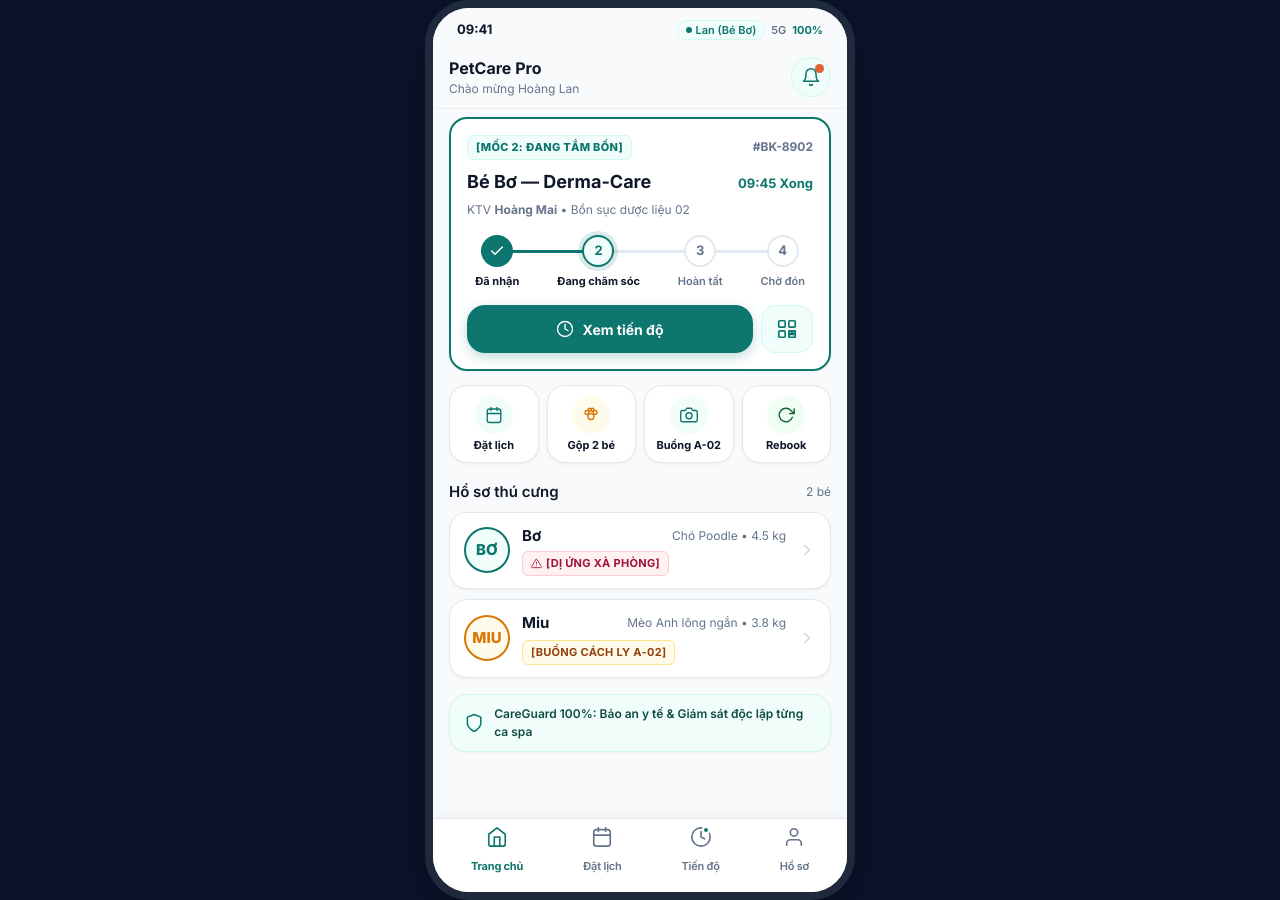
Test: PetCare Pro HCI — 4 Quy Trình Cốt Lõi & Giao Diện Scannable › 4. Kích hoạt và tự động xử lý xung đột dị ứng y tế (1-Click Auto-Fix)
This screenshot has width=1280, height=900.
// Mở tab đặt lịch
Click the tab with aria-label "Tab Đặt lịch hẹn".
click(602, 850)  # box x1=575 y1=822 x2=630 y2=877
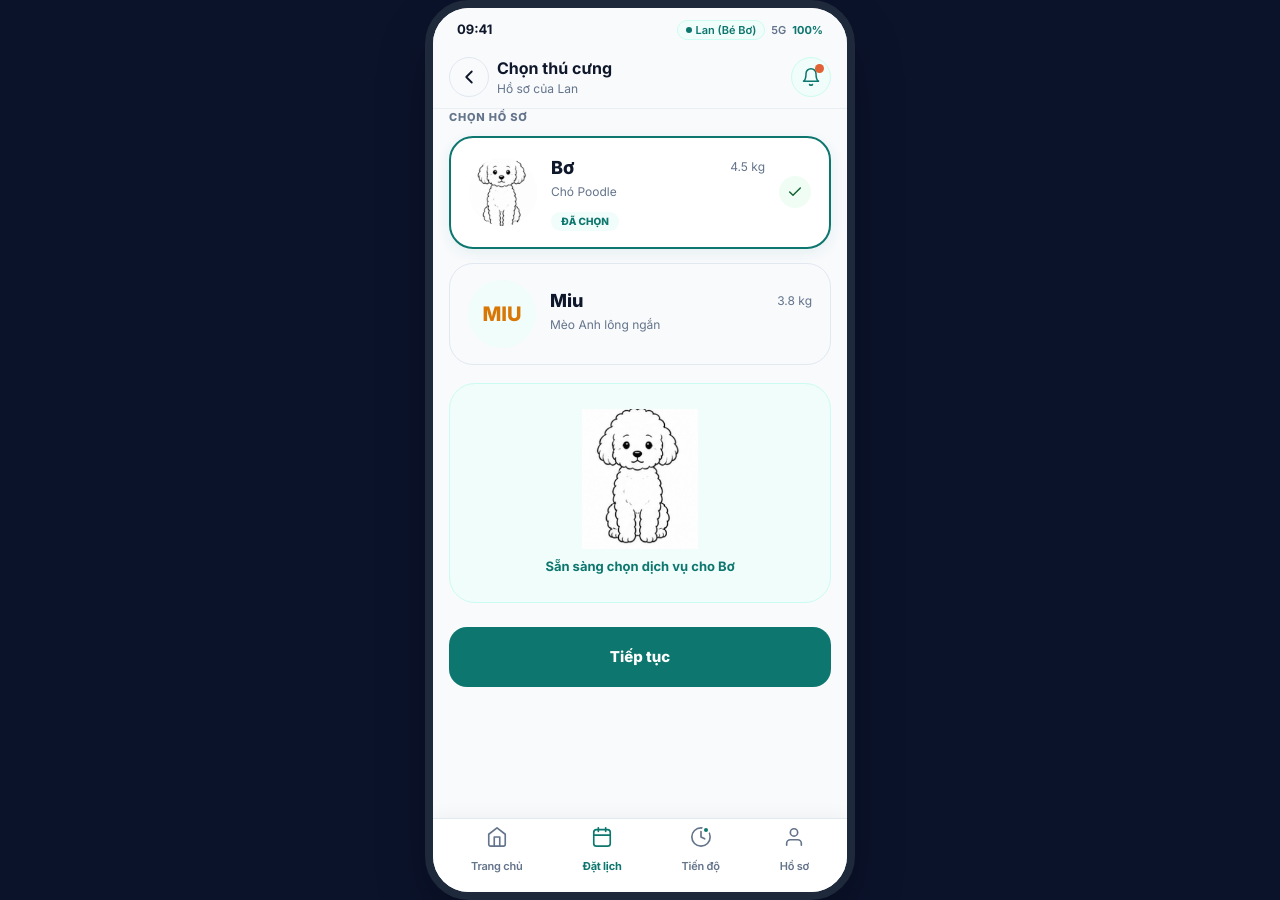
Click the button "Tiếp tục".
click(640, 656)  # box x1=449 y1=626 x2=831 y2=686
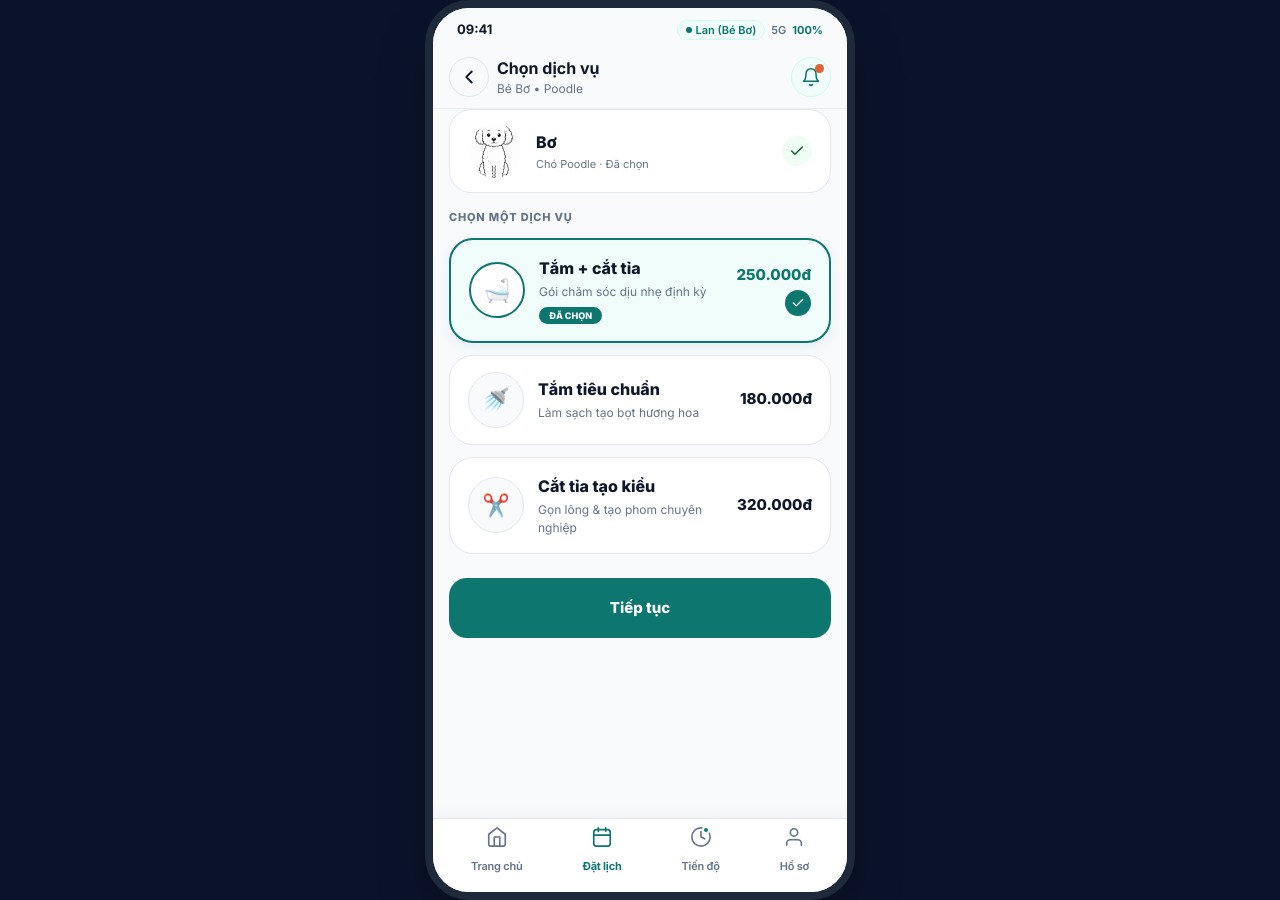
// Chọn Gói Tắm tiêu chuẩn (chứa hương liệu gây dị ứng da cho Bơ)
Click the text "Tắm tiêu chuẩn".
click(599, 389)  # box x1=538 y1=379 x2=660 y2=399
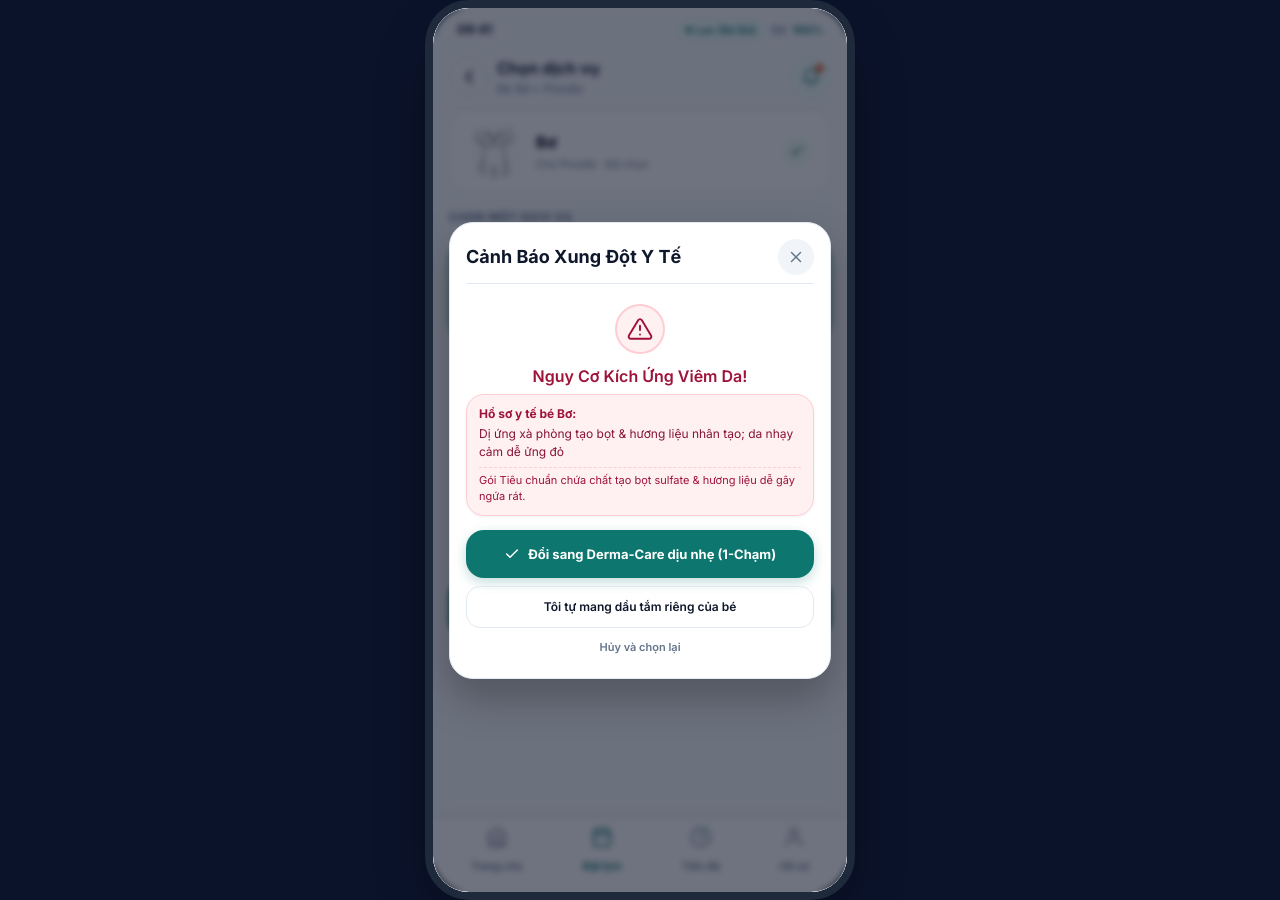
Now the heading "Cảnh Báo Xung Đột Y Tế" is shown, box x1=466 y1=243 x2=681 y2=270
Now the heading "Nguy Cơ Kích Ứng Viêm Da!" is shown, box x1=533 y1=366 x2=748 y2=386
// Bấm 1-Click Auto-Fix đổi sang Derma-Care
Click the button "Đổi sang Derma-Care dịu nhẹ (1-Chạm)".
click(640, 554)  # box x1=466 y1=530 x2=814 y2=578
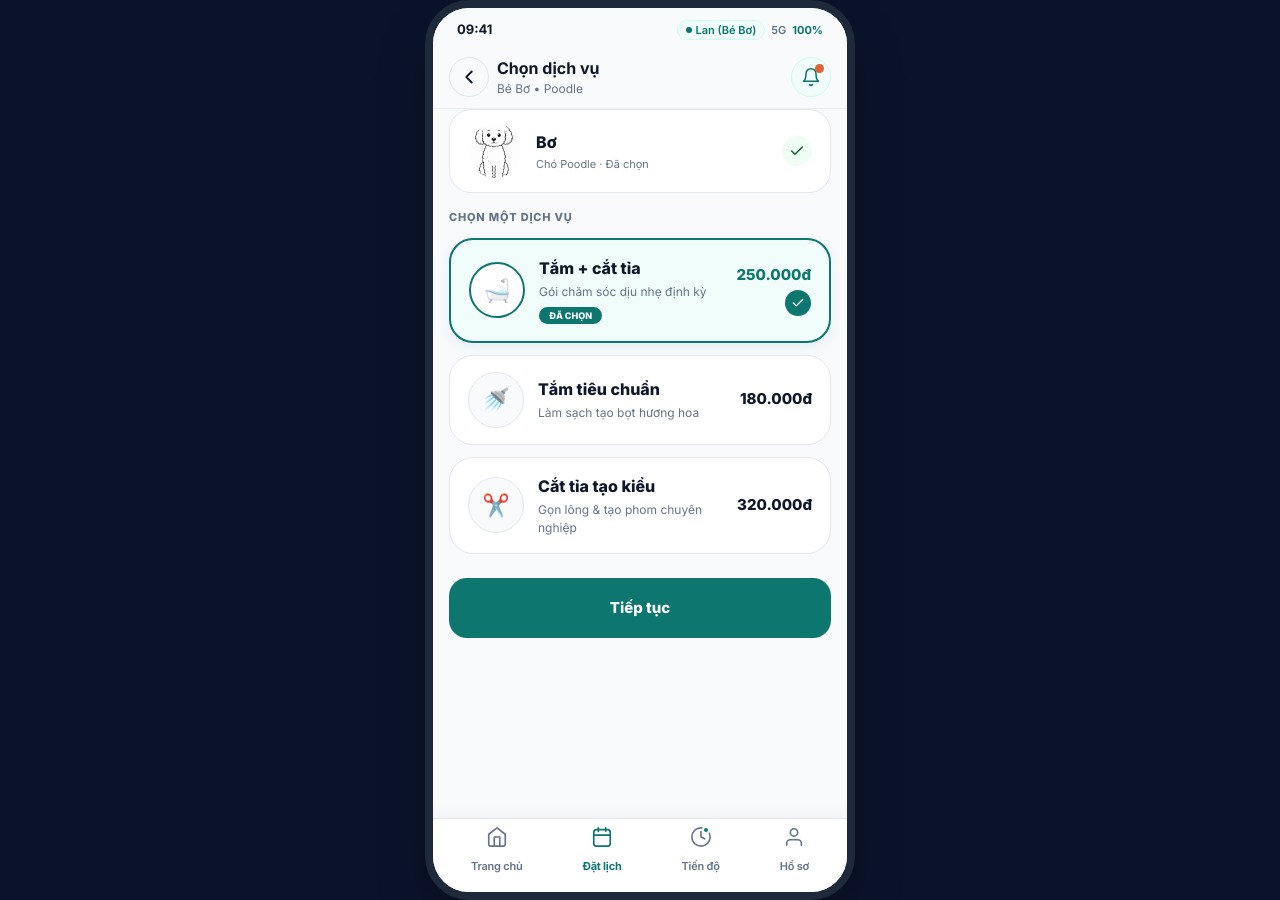
Now the heading "Nguy Cơ Kích Ứng Viêm Da!" is gone
